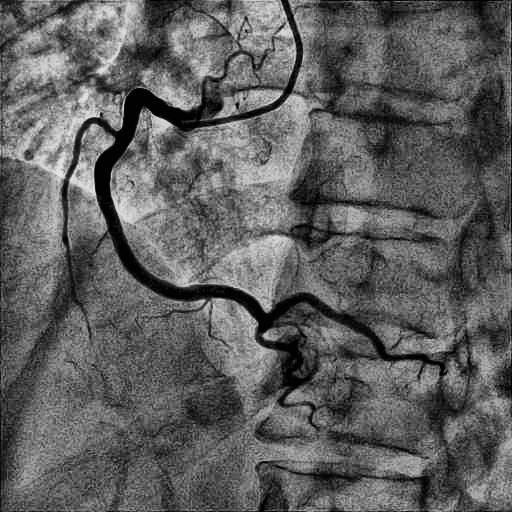pborca: (264, 292, 447, 376)
pda: (255, 323, 302, 376)
rca: (94, 88, 266, 322)
